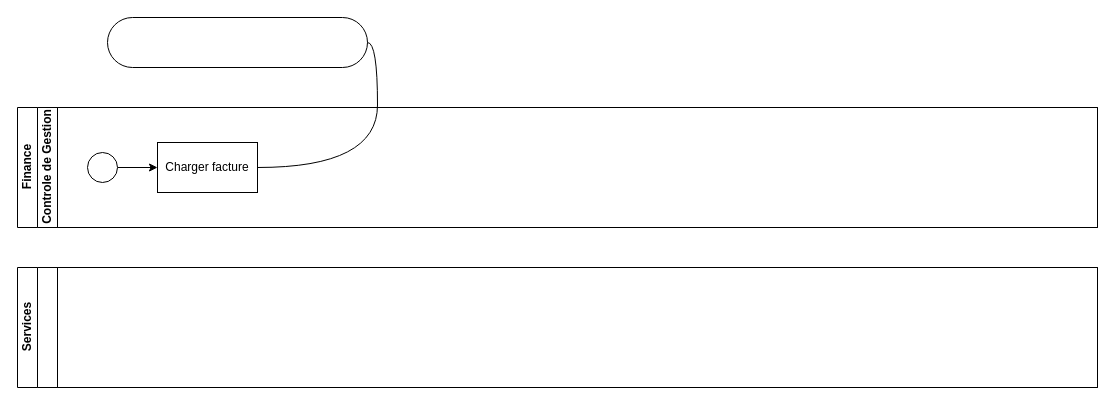
This 1115x405 diagram has some shape labels left out. The shapes that lost their labels are listed below. From the top down, each one's box as (x1, y1, x2, y2) in pixels, then its label:
(106, 16, 368, 68): Charge le fichier Entre les informations de la commande
(36, 266, 1098, 388): Responsable
